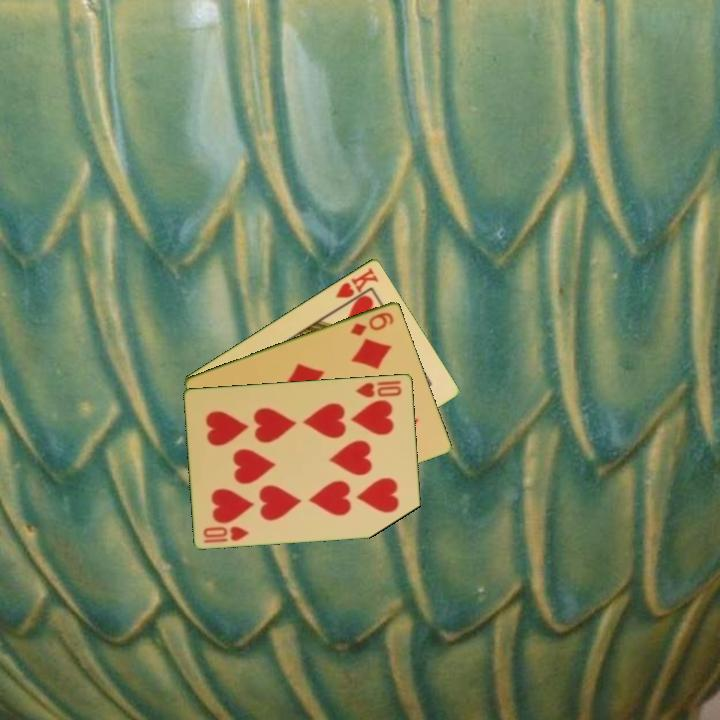10h: (353, 377, 405, 400), (200, 522, 252, 545)
6d: (347, 308, 397, 339)
Kh: (332, 264, 382, 310)
